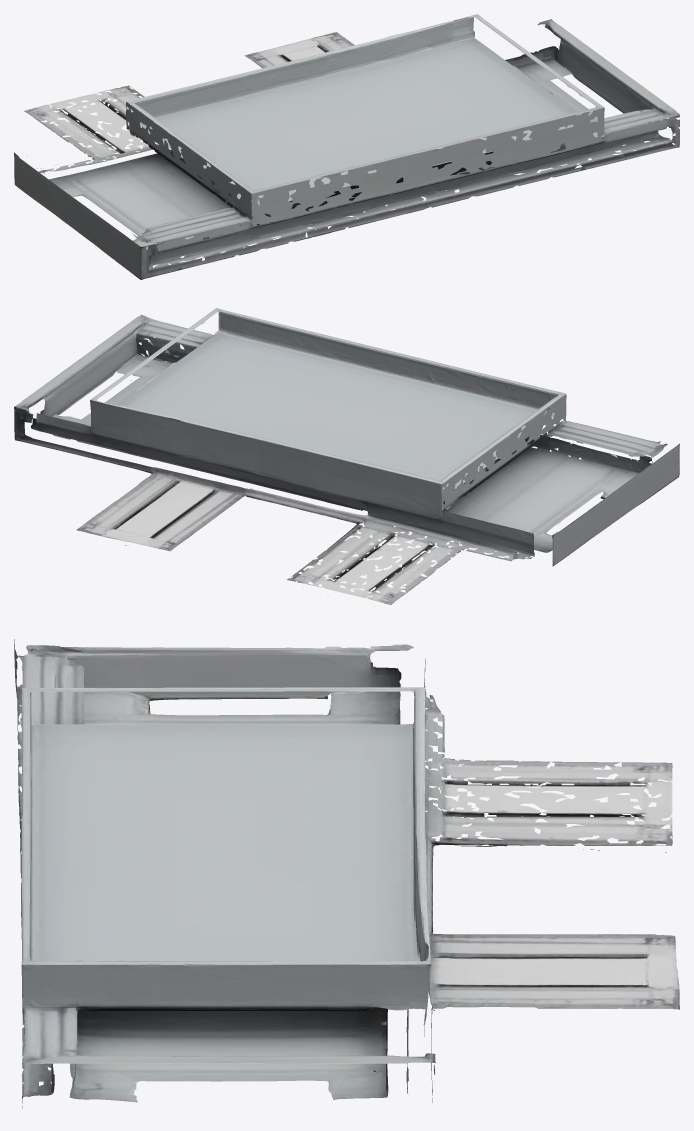
3 renders of one model, top to bottom at view 1: azimuth 30°, elevation 25°; view 2: azimuth 150°, elevation 25°; view 3: azimuth 270°, elevation 25°, orthographic. The views are drawn at different scales.
Parts seen in each view (by area): view 1: geometry_0; view 2: geometry_0; view 3: geometry_0.
Boxes of the visible parts, left/top/right/bottom form: geometry_0: left=14, top=14, right=679, bottom=279; geometry_0: left=14, top=308, right=679, bottom=604; geometry_0: left=14, top=639, right=679, bottom=1108.
Bounding box in the file's own units: 1 × 0.1154 × 0.6629.
Materials: 1 (1 with a texture image).
